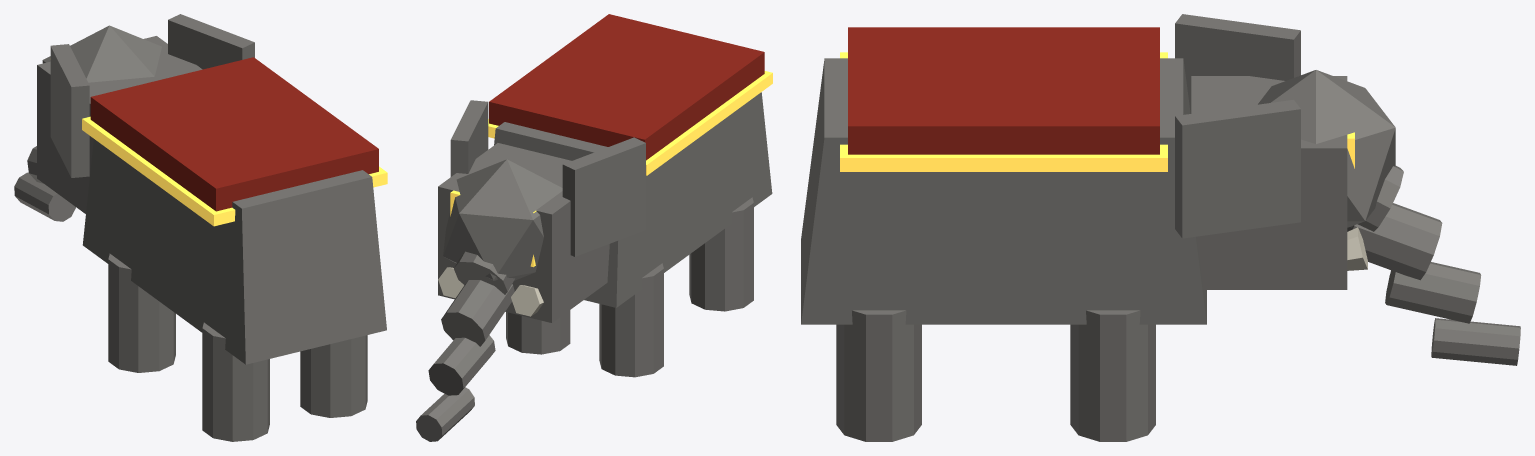
Rendered from elephant.glb.
The picture shows the model from 3 angles, left to right: view 1: azimuth 30°, elevation 25°; view 2: azimuth 150°, elevation 25°; view 3: azimuth 270°, elevation 25°; orthographic projection. The views are drawn at different scales.
Parts seen in each view (by area): view 1: body; view 2: body; view 3: body.
Part boxes in pixels (box(x1,y1,x2,y2)): body: box(14, 14, 387, 441); body: box(416, 14, 772, 441); body: box(801, 14, 1520, 441).
Size of the model in its own units: 0.338 by 0.46 by 0.9224.
